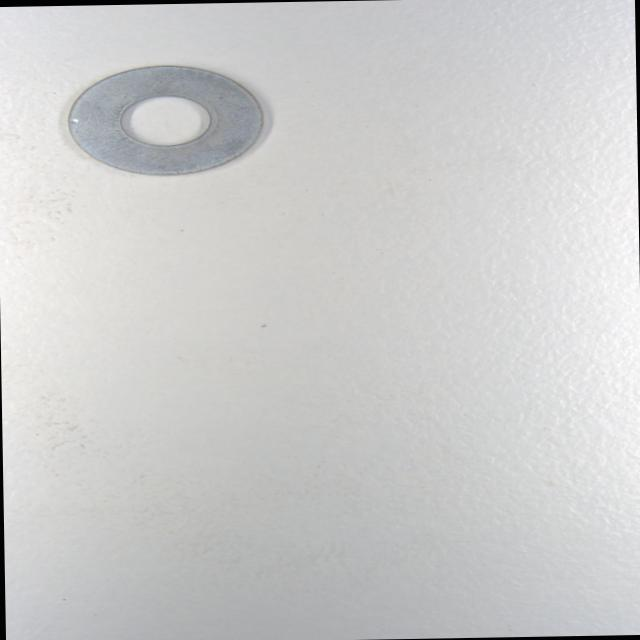washer: (64, 60, 270, 176)
